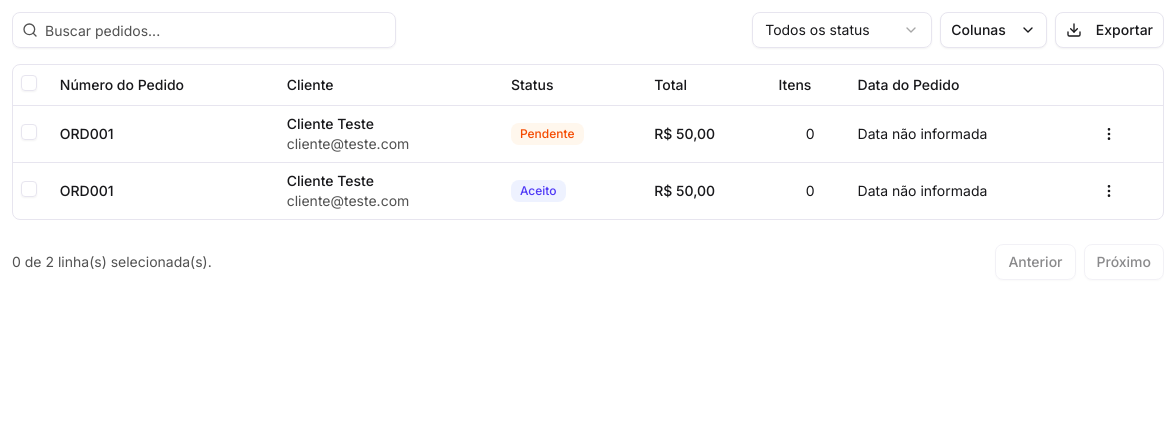
Test: Ações em Massa - DataTable › Atualização de Status em Massa › deve desabilitar avanço quando status selecionados forem distintos
The width and height of the screenshot is (1176, 435).
What coordinates should you click on to do the following:
click the checkbox named "Select all"
I would click on:
 (29, 83)
Its box is [21,75,37,91].
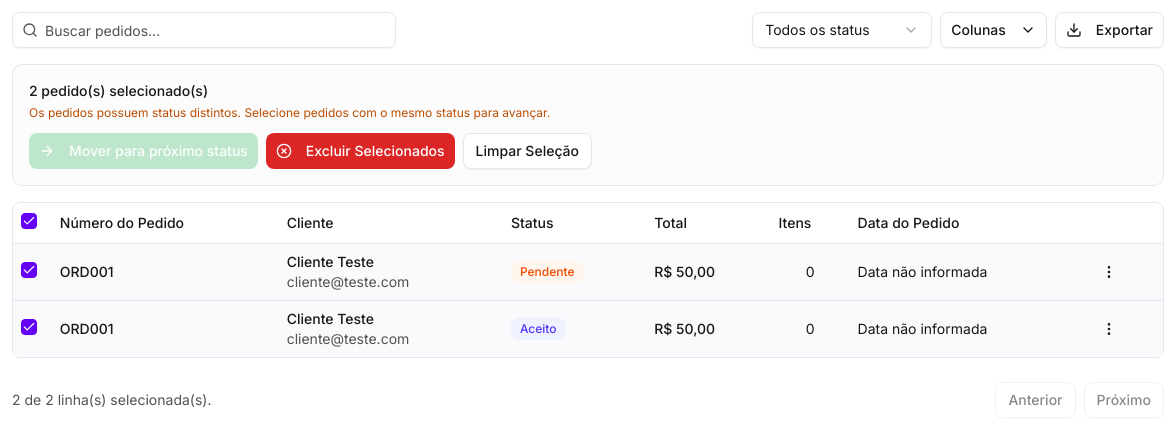
Result: the text "Os pedidos possuem status distintos" is shown at [29,105,550,120]
Result: the button "Mover para próximo status" is disabled at [29,133,258,169]
